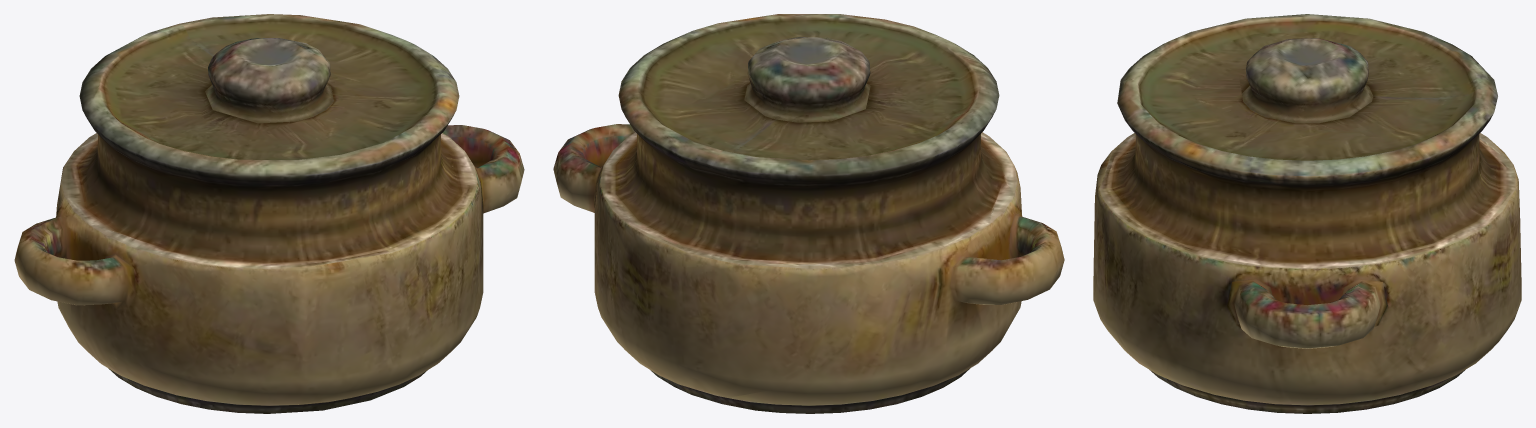
File: ceramic_pot.glb
The picture shows the model from 3 angles, left to right: view 1: azimuth 30°, elevation 25°; view 2: azimuth 150°, elevation 25°; view 3: azimuth 270°, elevation 25°; orthographic projection.
Parts seen in each view (by area): view 1: ceramic_pot; view 2: ceramic_pot; view 3: ceramic_pot.
Part boxes in pixels (x1,y1,x2,y2): ceramic_pot: [14, 14, 524, 413]; ceramic_pot: [553, 14, 1064, 413]; ceramic_pot: [1093, 14, 1521, 413].
Size of the model in its own units: 0.6563 by 0.3717 by 0.4989.
Materials: 1 (1 with a texture image).
